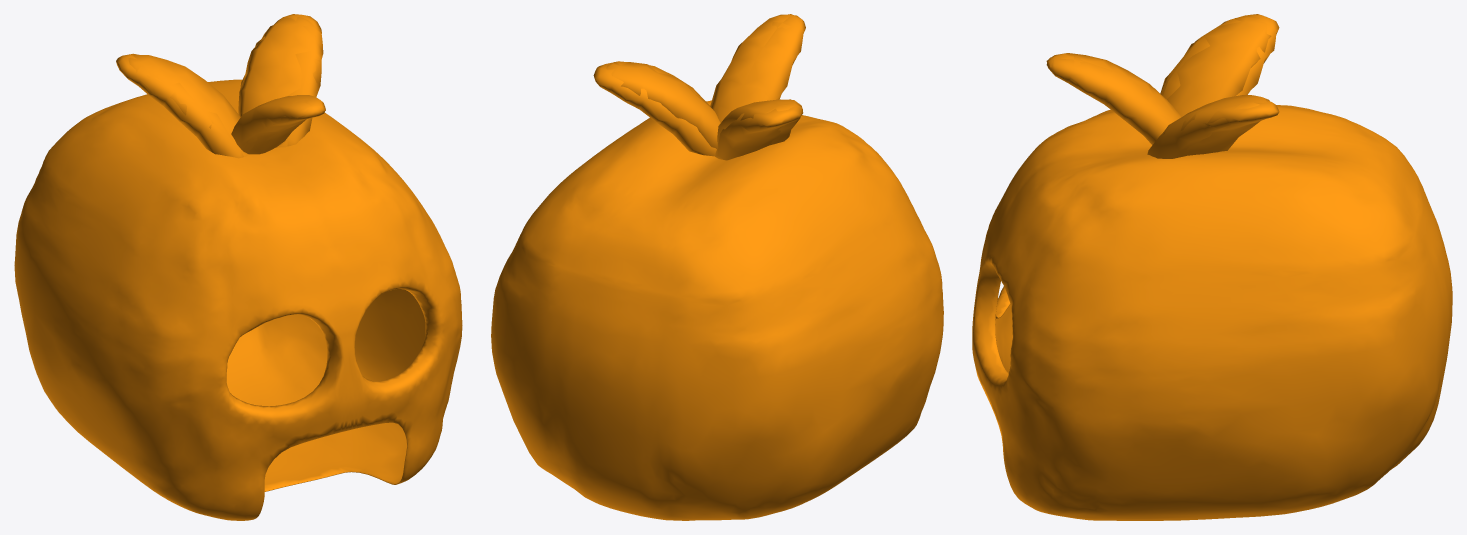
Rendered from kepala.obj.
3 renders of one model, left to right at view 1: azimuth 30°, elevation 25°; view 2: azimuth 150°, elevation 25°; view 3: azimuth 270°, elevation 25°, orthographic. The views are drawn at different scales.
Visible parts, largest first — view 1: Cube.118_Cube.246; view 2: Cube.118_Cube.246; view 3: Cube.118_Cube.246.
Boxes of the visible parts, box(x1,y1,x2,y2) form: Cube.118_Cube.246: box(14, 14, 462, 520); Cube.118_Cube.246: box(491, 14, 943, 520); Cube.118_Cube.246: box(972, 14, 1452, 520).
Size of the model in its own units: 2.54 by 2.86 by 2.92.
